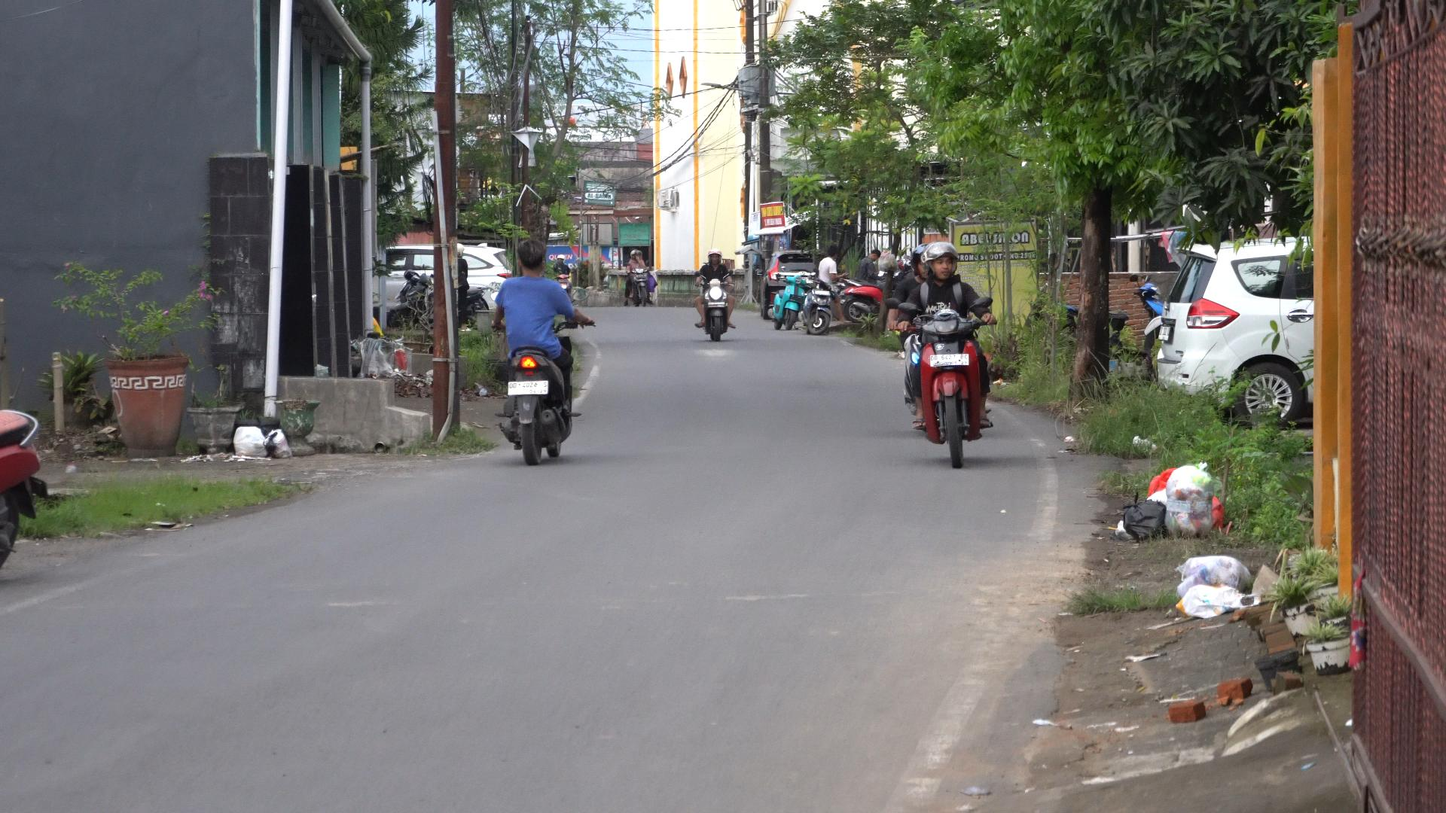number-plate: (928, 351, 974, 369)
